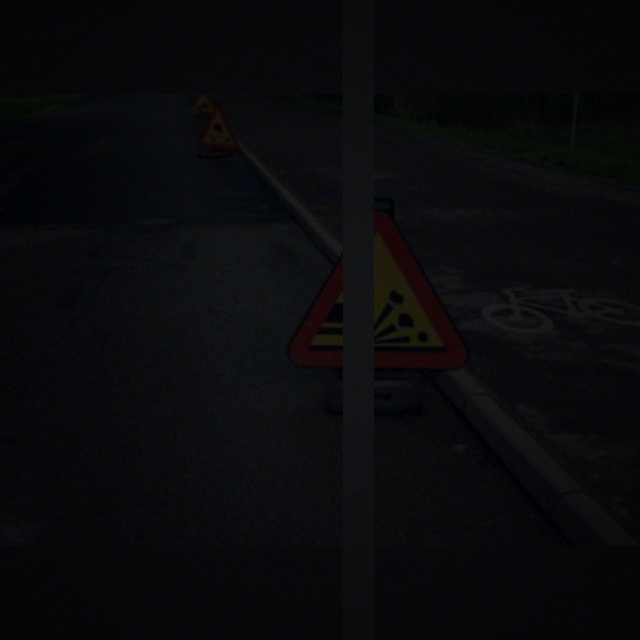Loose_Gravel: (300, 206, 462, 367)
